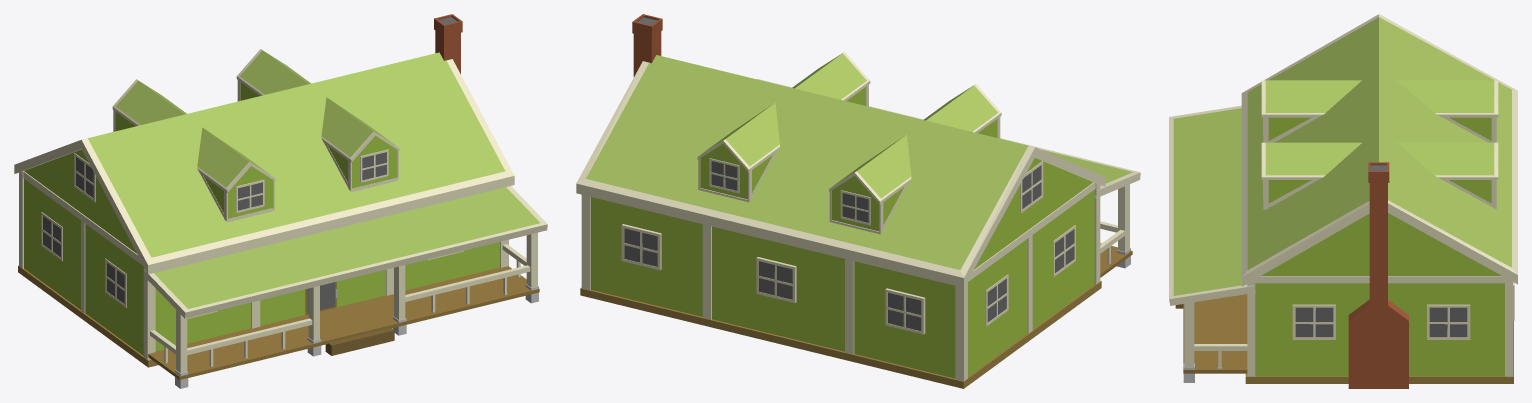
Rendered from houses3_1.fbx.
3 renders of one model, left to right at view 1: azimuth 30°, elevation 25°; view 2: azimuth 150°, elevation 25°; view 3: azimuth 270°, elevation 25°, orthographic. The views are drawn at different scales.
Parts seen in each view (by area): view 1: Cube_3; view 2: Cube_3; view 3: Cube_3.
Part boxes in pixels (box(x1,y1,x2,y2)): Cube_3: box(14, 14, 547, 388); Cube_3: box(576, 14, 1140, 388); Cube_3: box(1169, 14, 1517, 388).
Bounding box in the file's own units: 1290 × 693 × 1006.
